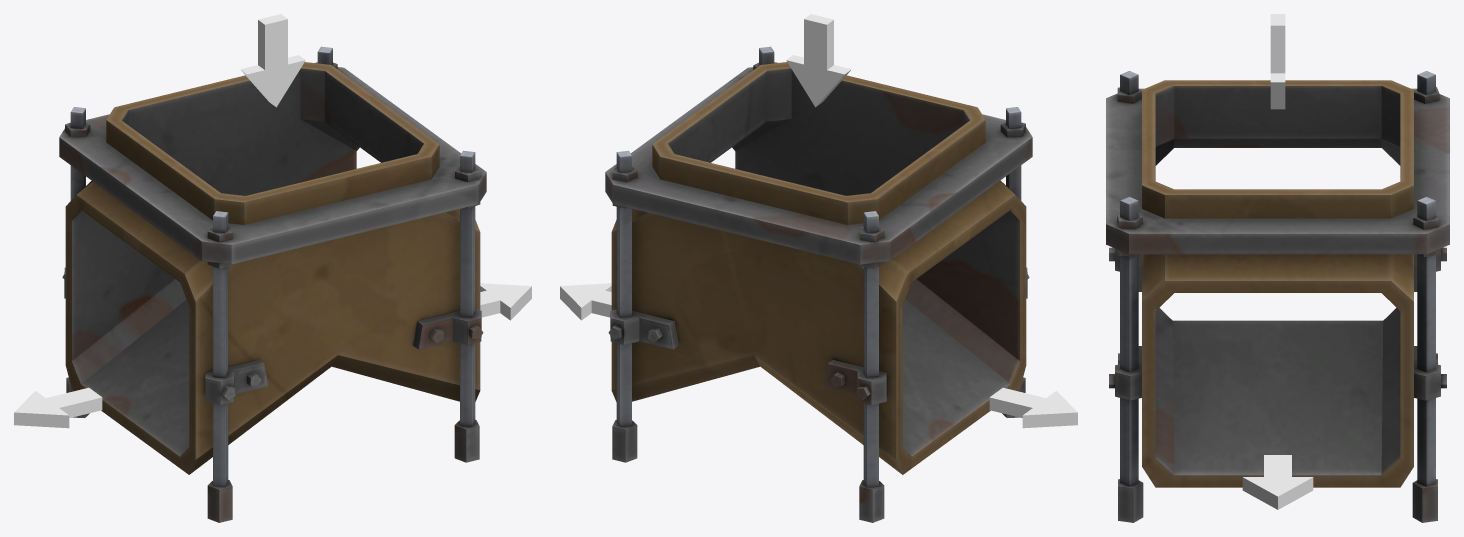
Rendered from Chute_Splitter.glb.
The picture shows the model from 3 angles, left to right: view 1: azimuth 30°, elevation 25°; view 2: azimuth 150°, elevation 25°; view 3: azimuth 270°, elevation 25°; orthographic projection. The views are drawn at different scales.
Visible parts, largest first — view 1: Chute_Splitter, ghostarrow, ghostarrow (1), ghostarrow (2); view 2: Chute_Splitter, ghostarrow, ghostarrow (1), ghostarrow (2); view 3: Chute_Splitter, ghostarrow (2), ghostarrow.
Boxes of the visible parts, x1,y1,x2,y2 form: Chute_Splitter: (59,46,486,522); ghostarrow: (240,14,305,107); ghostarrow (1): (14,387,102,428); ghostarrow (2): (480,283,531,320); Chute_Splitter: (605,46,1032,522); ghostarrow: (786,14,851,107); ghostarrow (1): (989,387,1077,428); ghostarrow (2): (560,283,611,320); Chute_Splitter: (1106,71,1449,522); ghostarrow (2): (1242,455,1313,509); ghostarrow: (1270,14,1285,109).
Bounding box in the file's own units: 1.82 × 1.39 × 1.
Materials: 3 (1 with a texture image).
